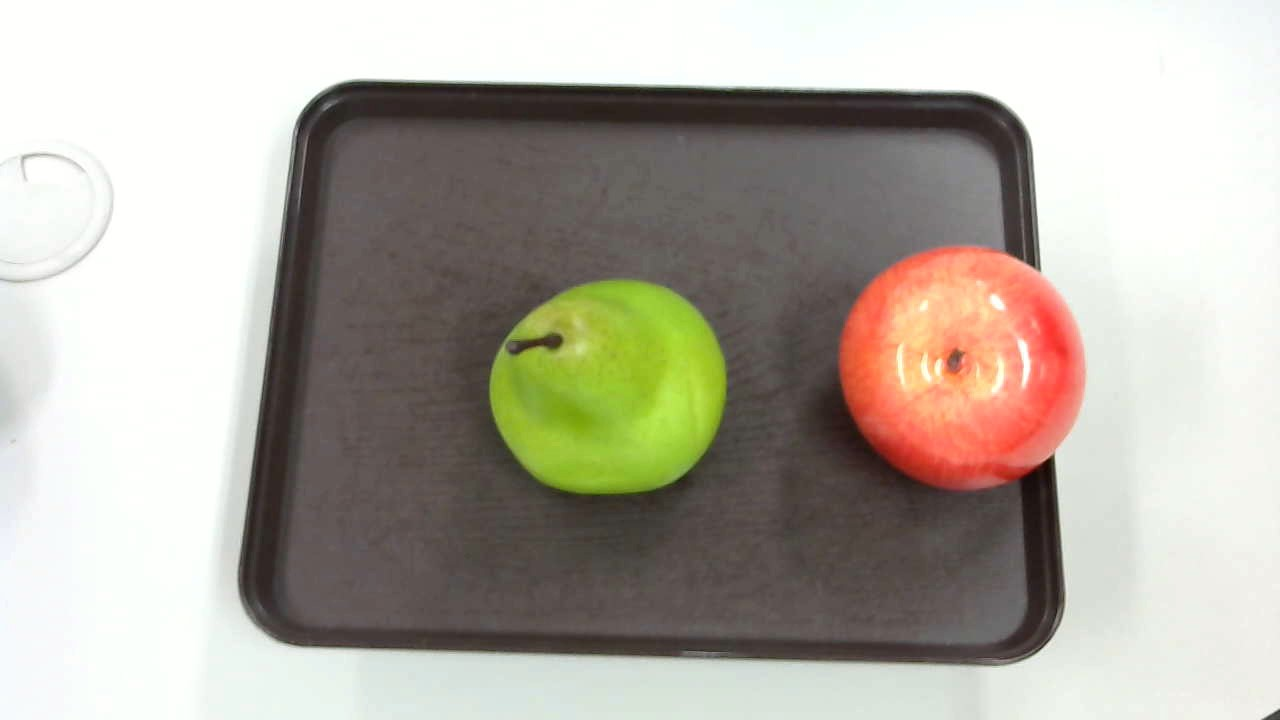green pear: (491, 281, 730, 493)
red apple: (830, 241, 1091, 500)
